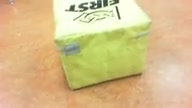cube: (52, 1, 153, 92)
